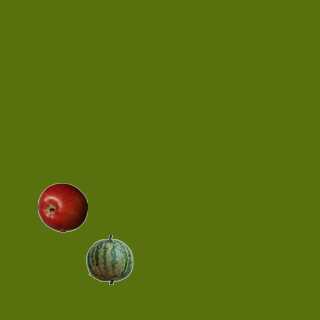Apple Braeburn: (37, 182, 87, 232)
Watermelon: (84, 234, 134, 284)
